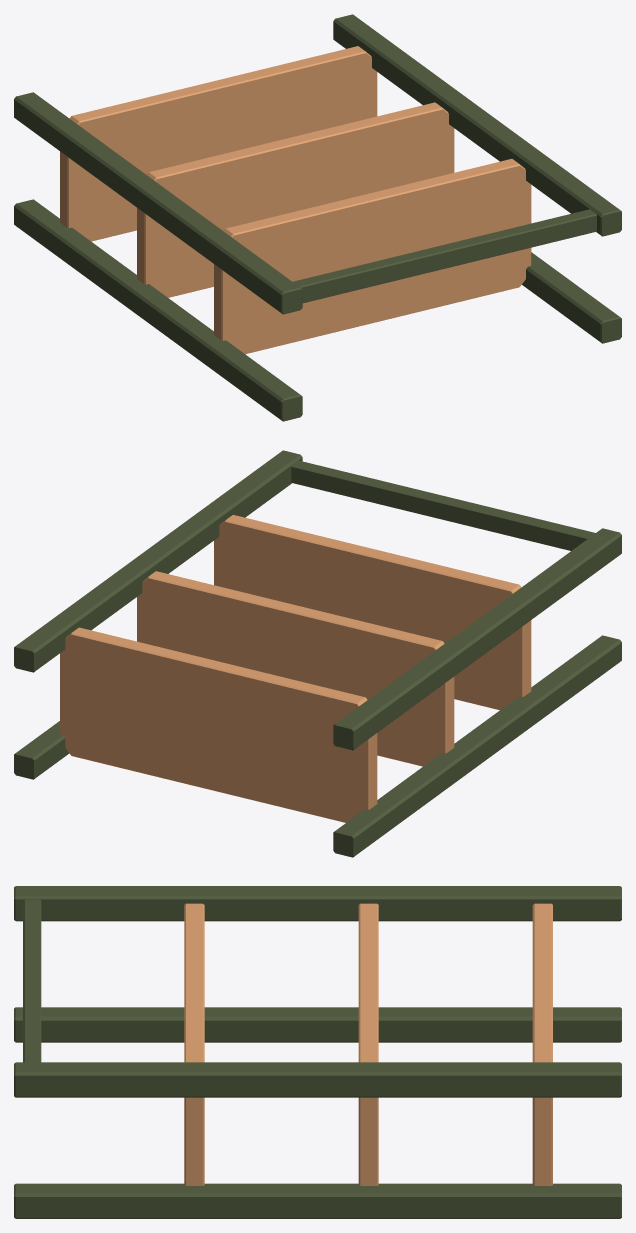
The model's file is fixture_15_homeware_shelf.glb.
The picture shows the model from 3 angles, top to bottom: view 1: azimuth 30°, elevation 25°; view 2: azimuth 150°, elevation 25°; view 3: azimuth 270°, elevation 25°; orthographic projection. The views are drawn at different scales.
Visible parts, largest first — view 1: fixture_15_homeware_shelf; view 2: fixture_15_homeware_shelf; view 3: fixture_15_homeware_shelf.
Part boxes in pixels (box(x1,y1,x2,y2)): fixture_15_homeware_shelf: box(14, 14, 621, 421); fixture_15_homeware_shelf: box(14, 450, 621, 857); fixture_15_homeware_shelf: box(14, 886, 621, 1218).
Size of what is drawn, in the model's own units: 1.1 by 0.4 by 1.5.
